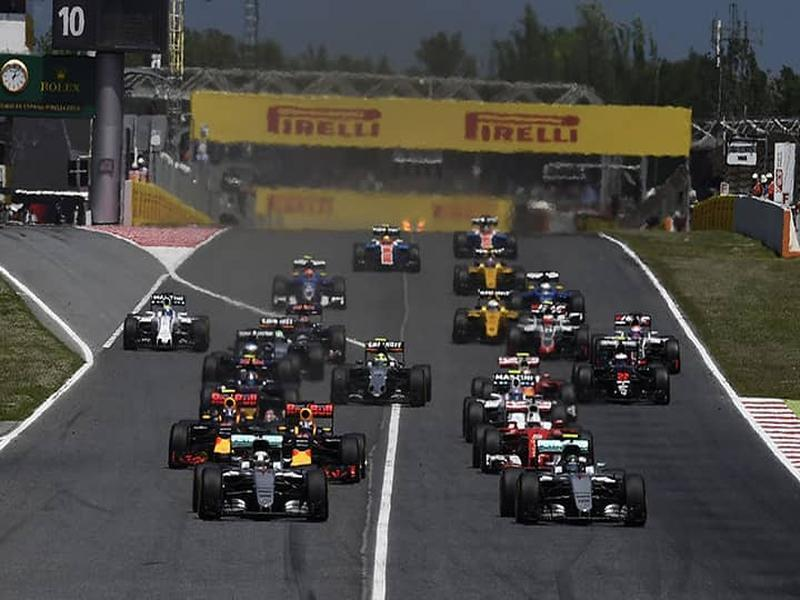f1: (500, 442, 647, 531), (201, 445, 344, 525), (325, 337, 454, 413), (567, 334, 678, 411), (170, 401, 283, 460), (122, 286, 212, 350), (270, 252, 359, 312), (595, 313, 690, 368), (349, 206, 423, 272), (452, 287, 529, 337), (451, 209, 522, 256)
